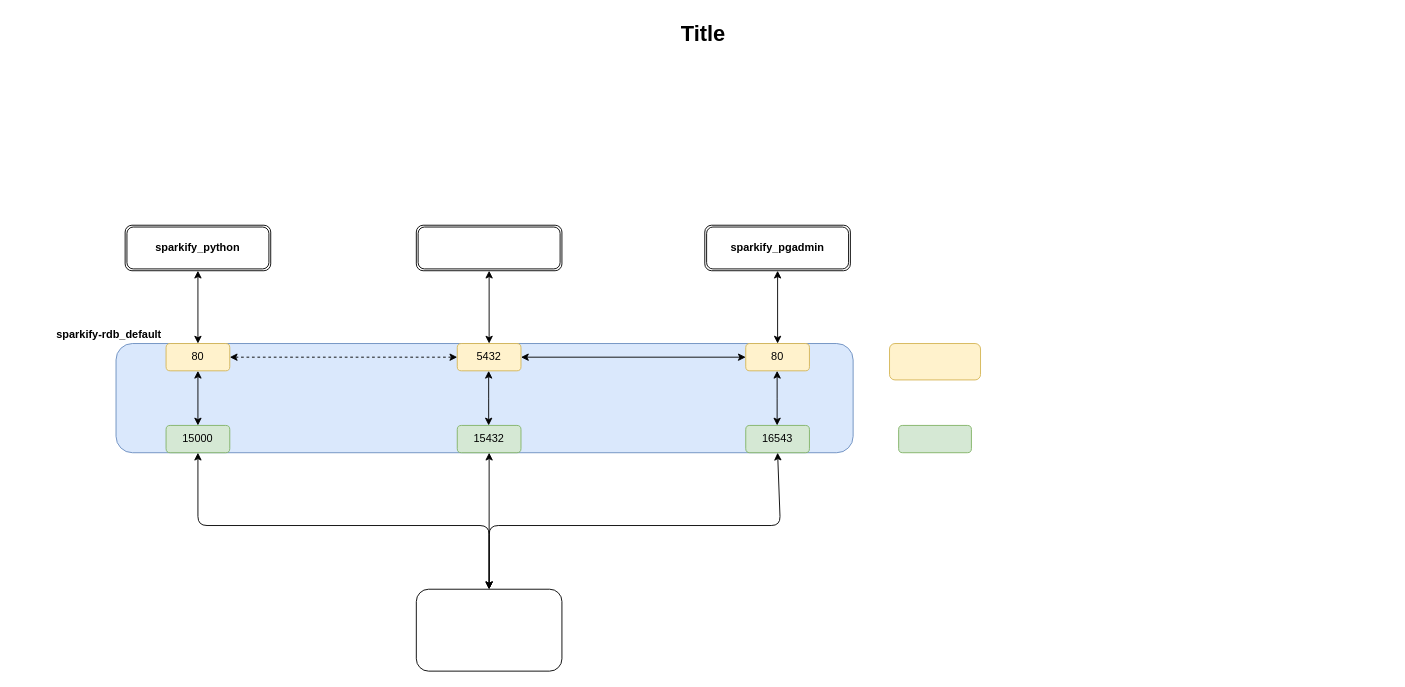
This 1405x687 diagram has some shape labels left out. Each missing label, with the centre of its shape:
"Container side" goes at (x=935, y=361).
"Host" goes at (x=488, y=629).
"Host side" goes at (x=934, y=439).
"sparkify_postgres" goes at (x=488, y=247).
